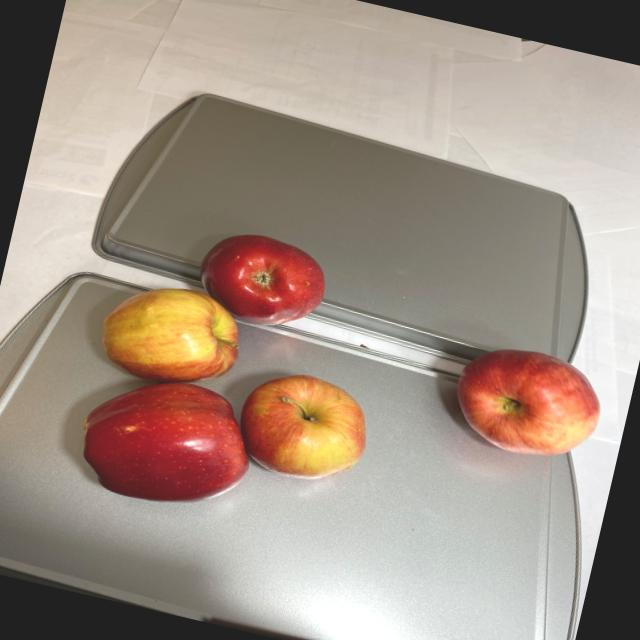apple: (61, 203, 410, 544), (438, 334, 610, 471)
